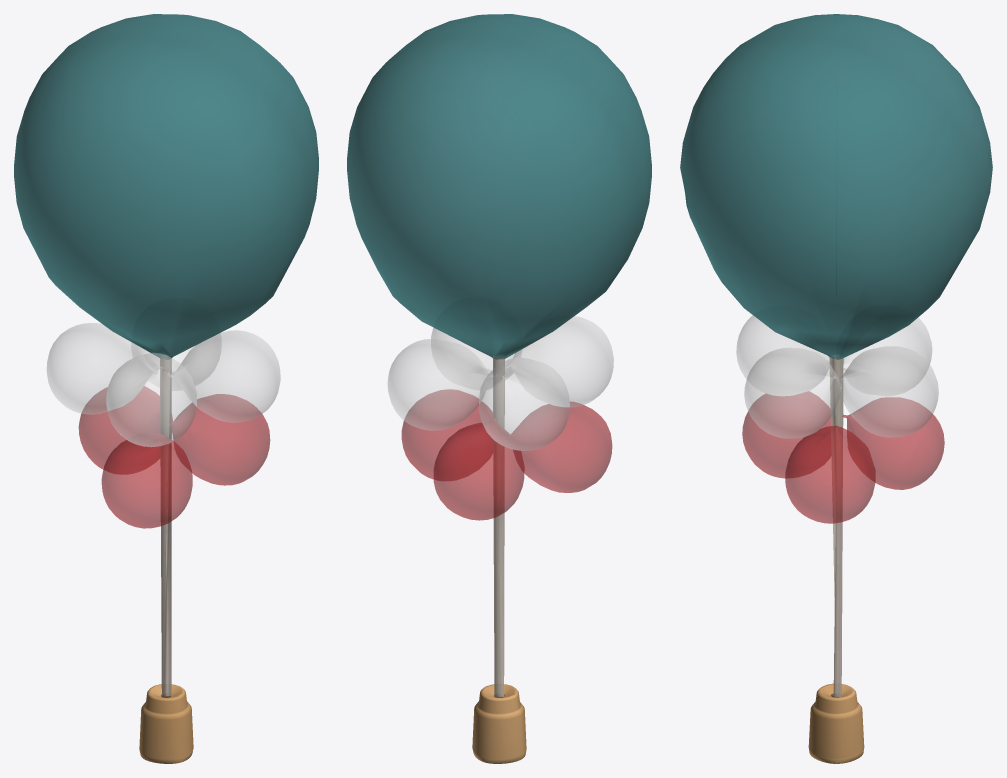
Rendered from furn_balloon.glb.
3 views of the same model, side by side, from view 1: azimuth 30°, elevation 25°; view 2: azimuth 150°, elevation 25°; view 3: azimuth 270°, elevation 25° (orthographic).
Parts seen in each view (by area): view 1: MainBalloon_2_LargeBlue_0, MiniBalloon_7_SmallWhitr_0, MiniBalloon_4_SmallREd_0, MainBalloon_2_BunchBotton_0; view 2: MainBalloon_2_LargeBlue_0, MiniBalloon_7_SmallWhitr_0, MiniBalloon_4_SmallREd_0, MainBalloon_2_BunchBotton_0; view 3: MainBalloon_2_LargeBlue_0, MiniBalloon_4_SmallREd_0, MiniBalloon_7_SmallWhitr_0, MainBalloon_2_BunchBotton_0.
Boxes of the visible parts, x1,y1,x2,y2 form: MainBalloon_2_LargeBlue_0: (14, 14, 318, 696); MiniBalloon_7_SmallWhitr_0: (46, 323, 280, 447); MiniBalloon_4_SmallREd_0: (78, 386, 270, 528); MainBalloon_2_BunchBotton_0: (139, 684, 193, 763); MainBalloon_2_LargeBlue_0: (347, 14, 651, 697); MiniBalloon_7_SmallWhitr_0: (387, 316, 613, 450); MiniBalloon_4_SmallREd_0: (401, 389, 612, 520); MainBalloon_2_BunchBotton_0: (472, 684, 526, 763); MainBalloon_2_LargeBlue_0: (680, 14, 992, 697); MiniBalloon_4_SmallREd_0: (742, 391, 944, 523); MiniBalloon_7_SmallWhitr_0: (736, 315, 938, 438); MainBalloon_2_BunchBotton_0: (808, 683, 864, 763).
Bounding box in the file's own units: 6.46 × 16.5 × 6.46.
4 materials, 4 textured.
